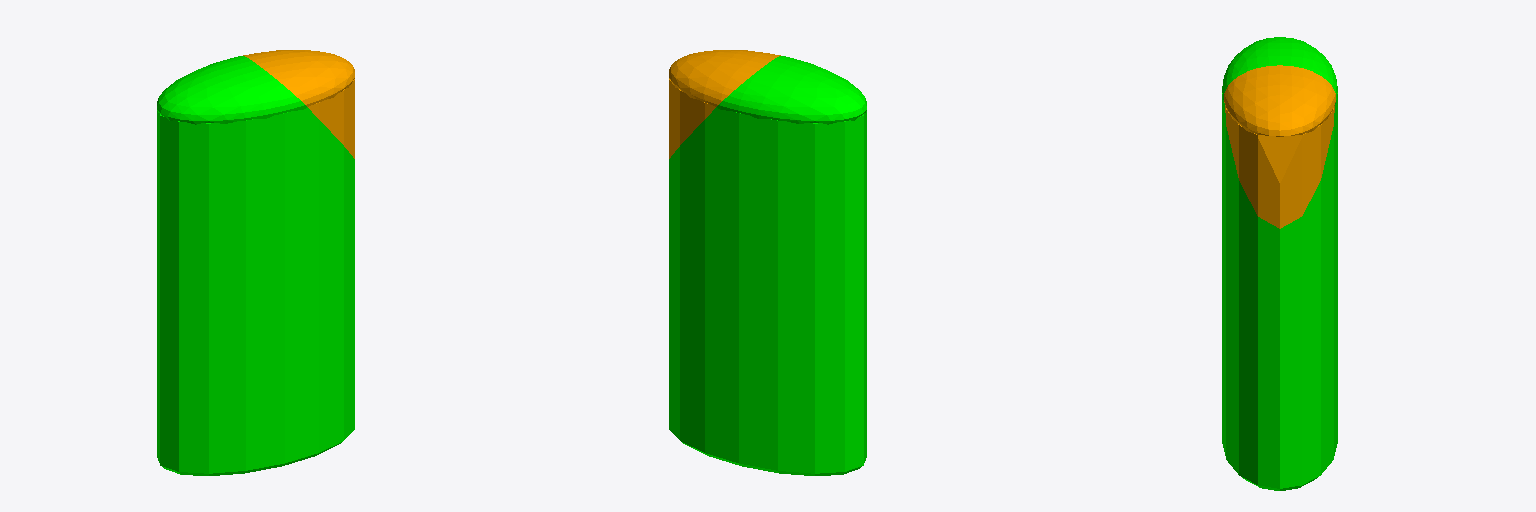
3 renders of one model, left to right at view 1: azimuth 30°, elevation 25°; view 2: azimuth 150°, elevation 25°; view 3: azimuth 270°, elevation 25°, orthographic.
Parts seen in each view (by area): view 1: corps_vert_1, bouchon_jaune_2; view 2: corps_vert_1, bouchon_jaune_2; view 3: corps_vert_1, bouchon_jaune_2.
Boxes of the visible parts, box(x1,y1,x2,y2) form: corps_vert_1: box(157, 56, 354, 475); bouchon_jaune_2: box(243, 50, 354, 158); corps_vert_1: box(669, 56, 866, 475); bouchon_jaune_2: box(669, 50, 780, 158); corps_vert_1: box(1222, 37, 1337, 490); bouchon_jaune_2: box(1224, 65, 1335, 228).
Size of the model in its own units: 8 by 15.3 by 4.2.